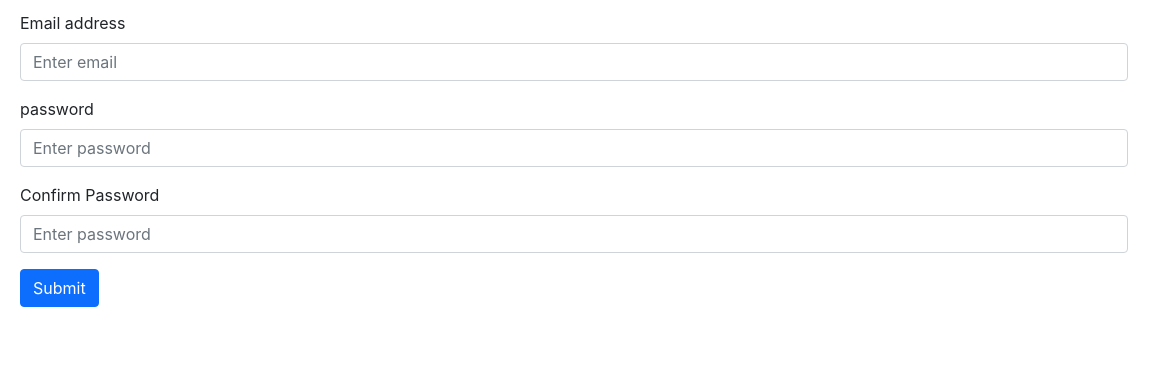
should validate form
Expected: the text "invalid Email" is not shown
Click the button "Submit" at (59, 288), box [20, 269, 99, 307]
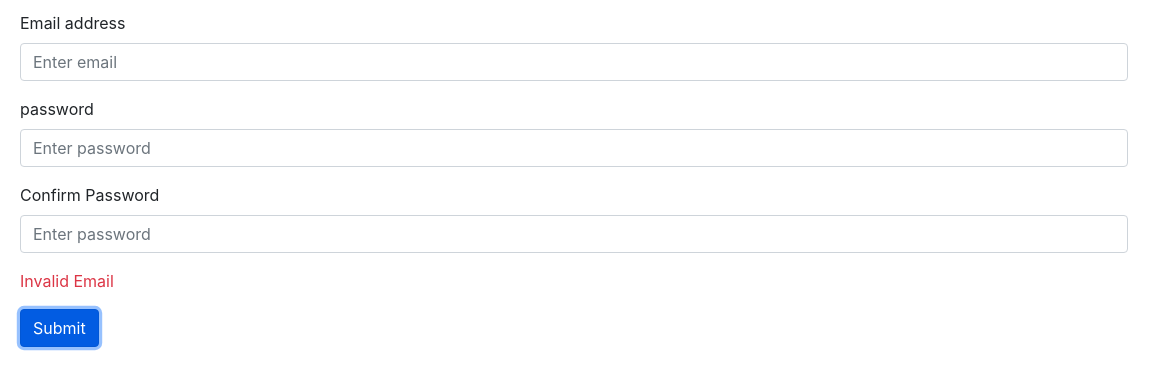
Result: the text "Invalid Email" is shown at [20, 271, 114, 291]
Type "piash@gmail.com" into the field at (574, 62), box [20, 43, 1128, 81]
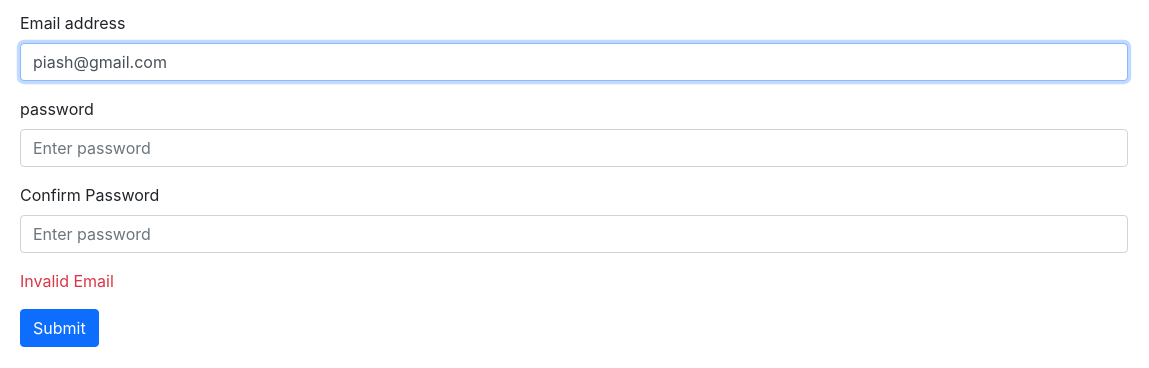
Type "123" into the password field labelled "password" at (574, 148), box [20, 129, 1128, 167]
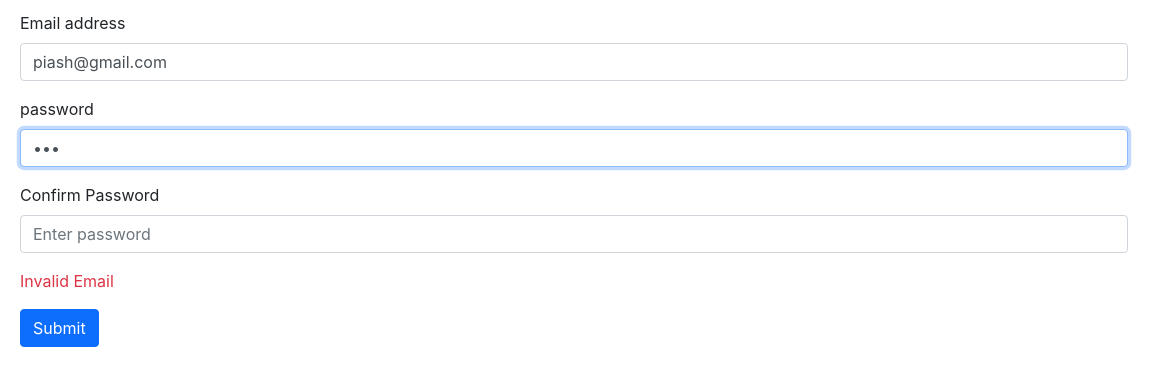
Click the button "Submit" at (59, 328), box [20, 309, 99, 347]
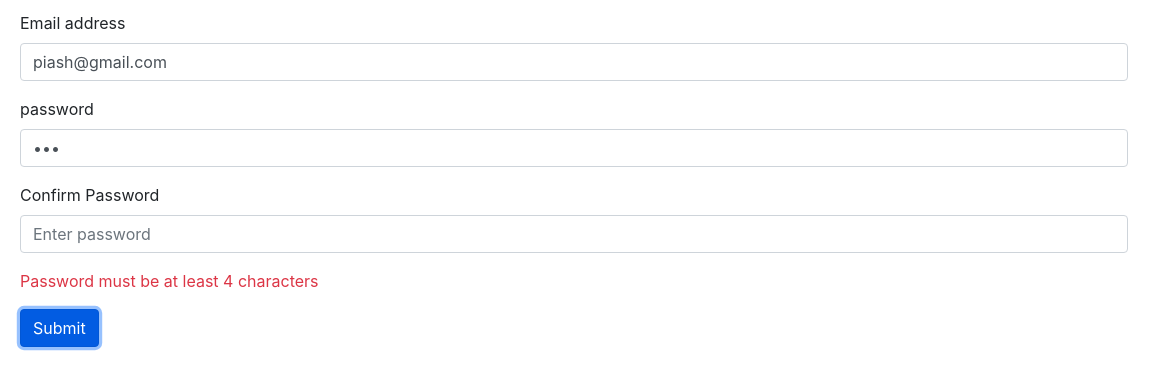
Result: the text "Password must be at least 4 characters" is shown at [20, 271, 318, 291]
